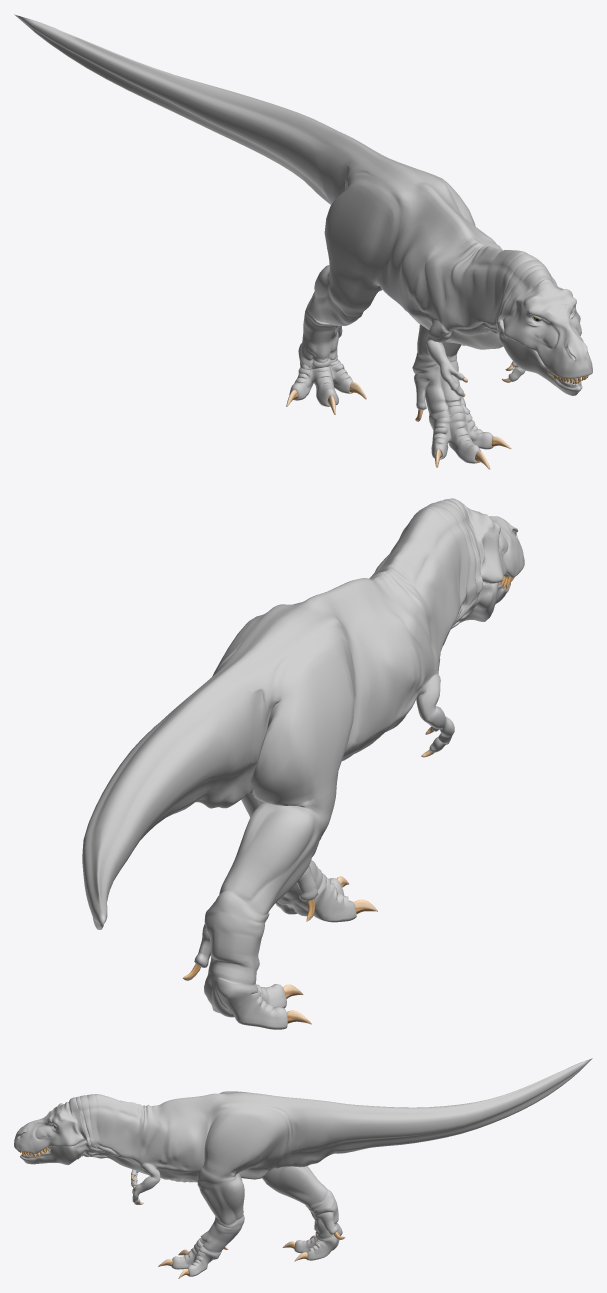
3 views of the same model, one above another, from view 1: azimuth 30°, elevation 25°; view 2: azimuth 150°, elevation 25°; view 3: azimuth 270°, elevation 25° (orthographic). The views are drawn at different scales.
Parts seen in each view (by area): view 1: trexGeoGrp; view 2: trexGeoGrp; view 3: trexGeoGrp.
Part boxes in pixels (box(x1,y1,x2,y2)): trexGeoGrp: box(14, 14, 592, 469); trexGeoGrp: box(82, 498, 524, 1029); trexGeoGrp: box(14, 1058, 592, 1278).
Size of the model in its own units: 6.09 by 8.26 by 25.6.
